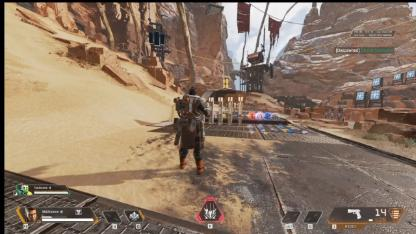Target: (174, 86, 204, 170)
